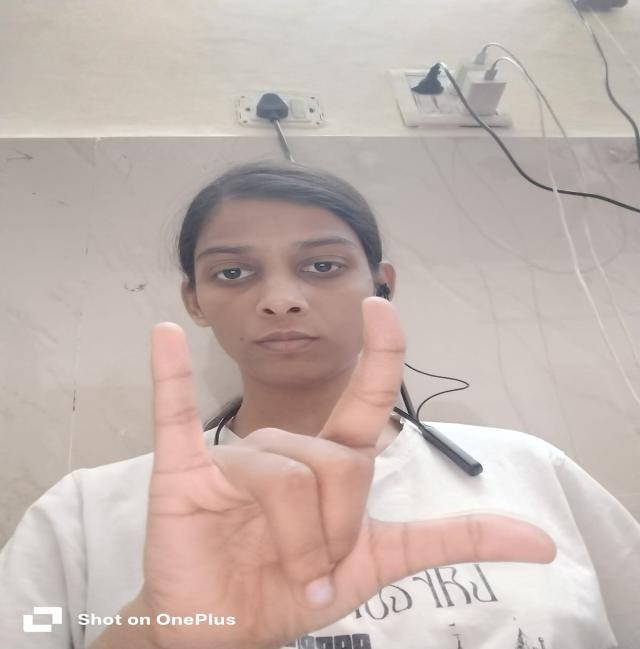I Love You: (142, 282, 564, 636)
